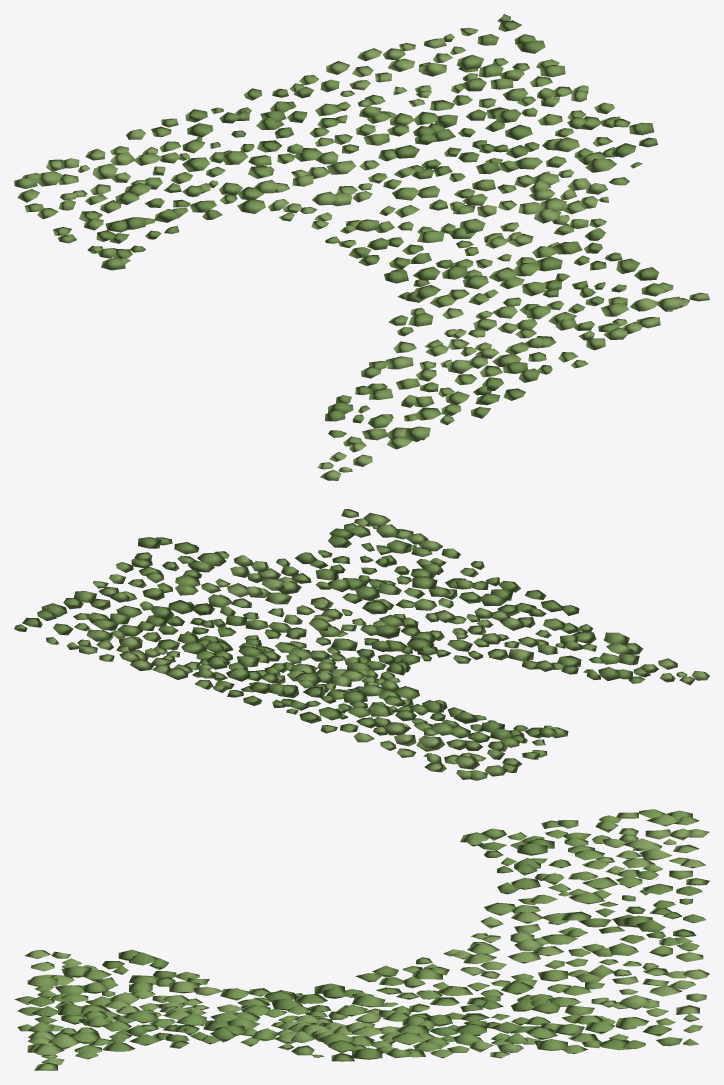
The model's file is canopy-1-5-4.glb.
3 views of the same model, one above another, from view 1: azimuth 30°, elevation 25°; view 2: azimuth 150°, elevation 25°; view 3: azimuth 270°, elevation 25° (orthographic). The views are drawn at different scales.
Size of the model in its own units: 518 by 145 by 515.
Materials: 1 (1 with a texture image).
